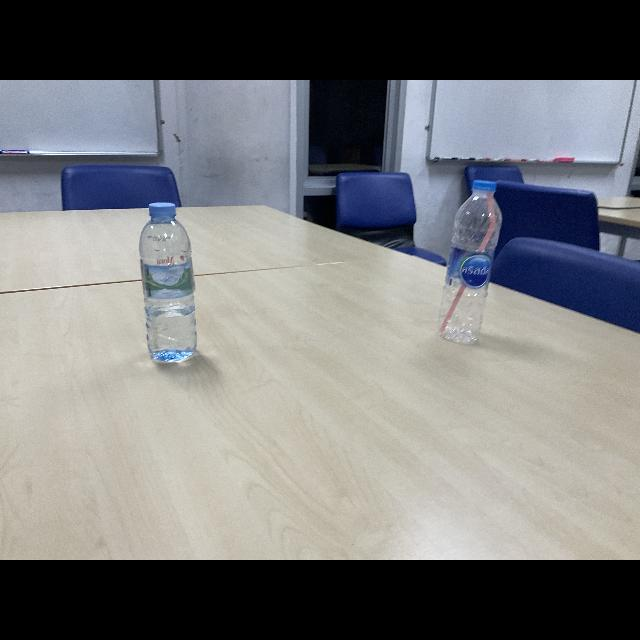plastic_bottle: (136, 201, 200, 367), (441, 178, 504, 346)
plastic_bottle_cap: (148, 200, 178, 222), (470, 176, 500, 194)
straw: (438, 195, 498, 333)
